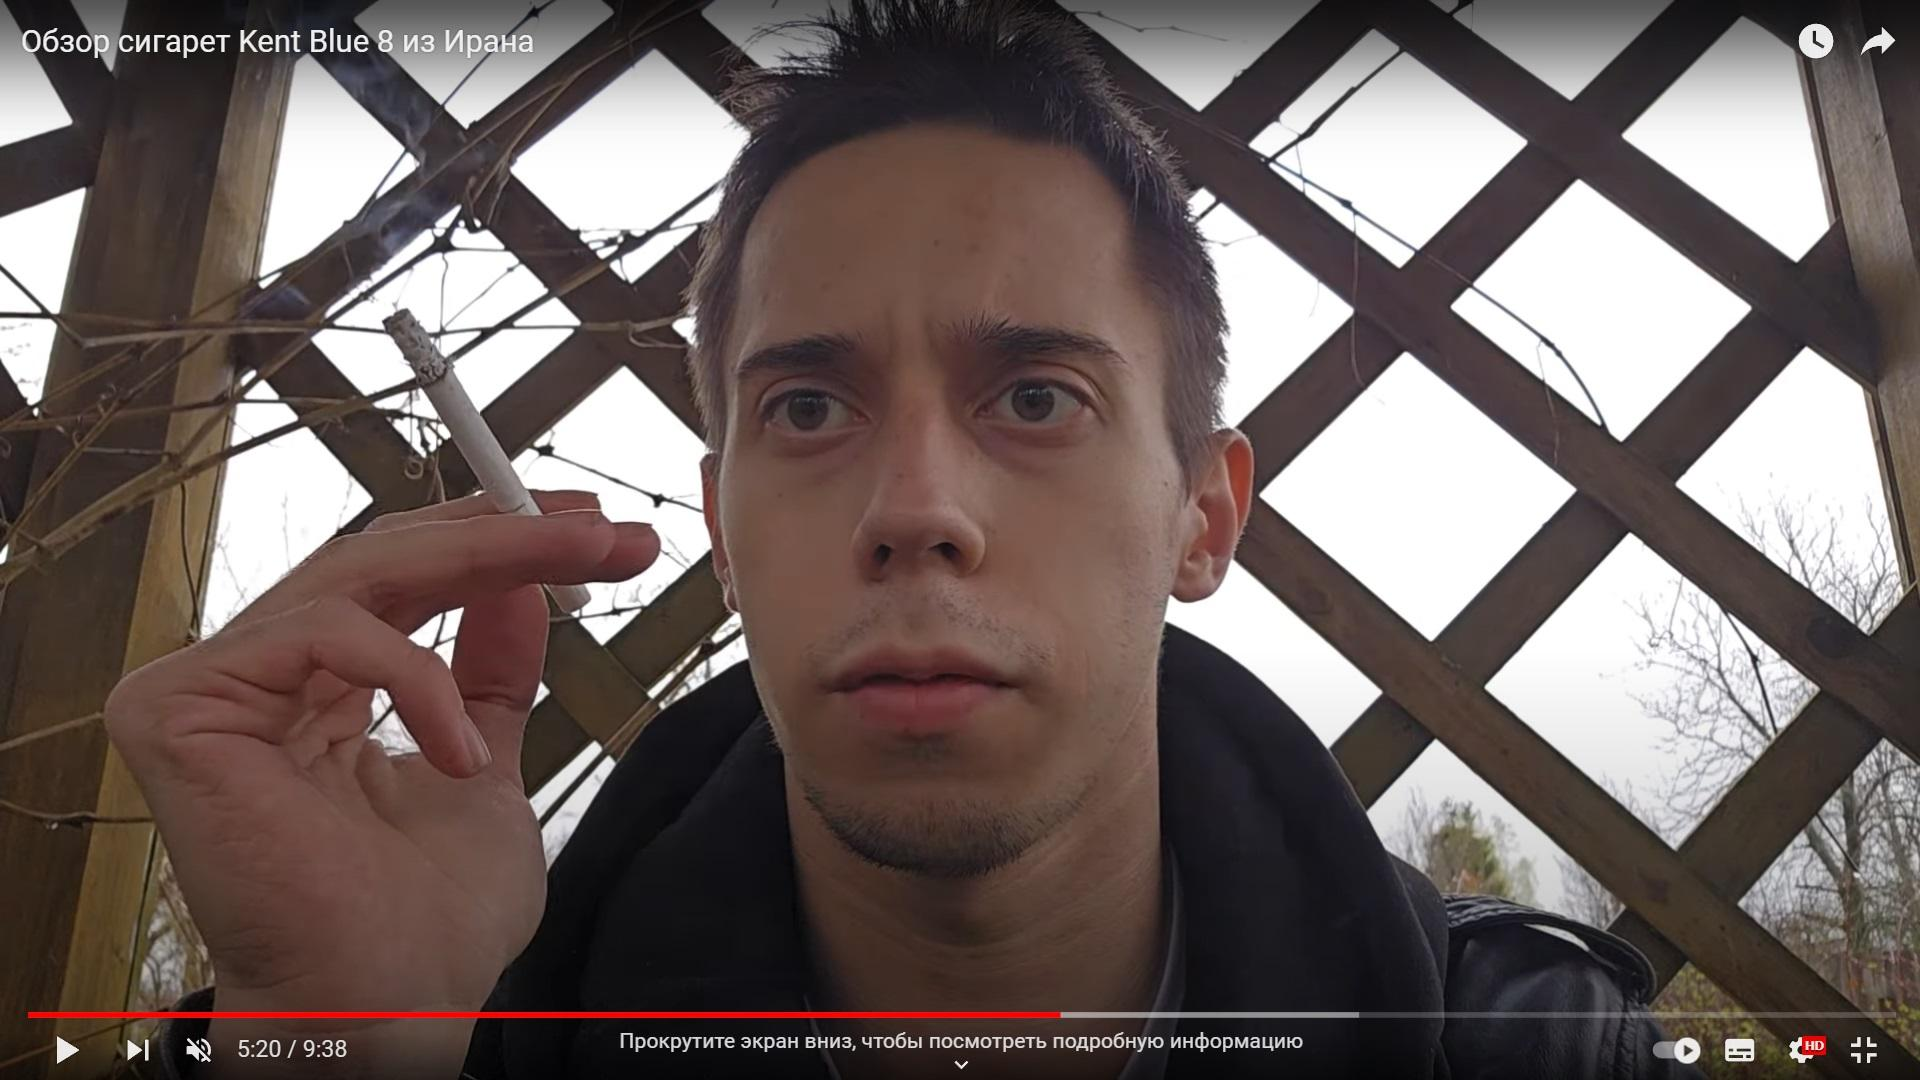cigarette: (380, 309, 592, 615)
